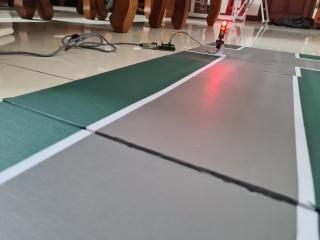red: (212, 15, 232, 47)
